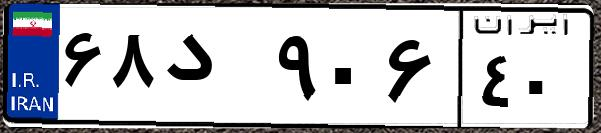0: (330, 28, 385, 110), (525, 38, 570, 115)
4: (475, 38, 525, 113)
6: (385, 28, 445, 110), (57, 26, 110, 100)
8: (110, 28, 158, 98)
9: (270, 28, 330, 110)
د: (158, 20, 270, 120)
